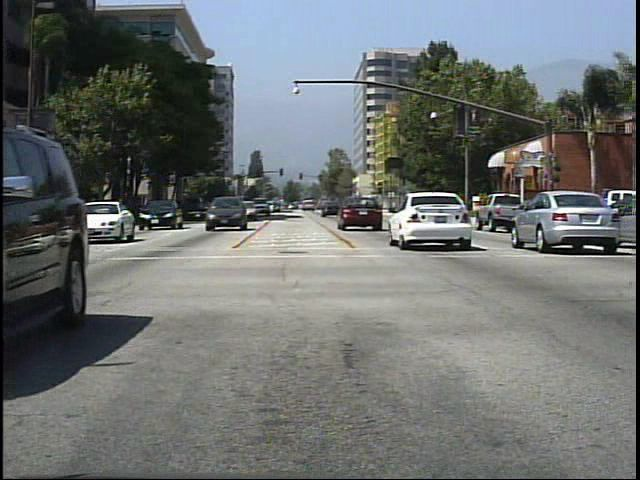person: (533, 193, 552, 228), (495, 189, 512, 224)
